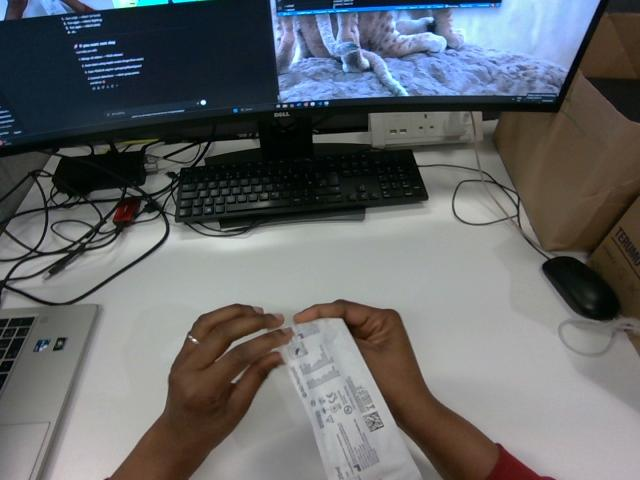syringe: (280, 318, 421, 479)
